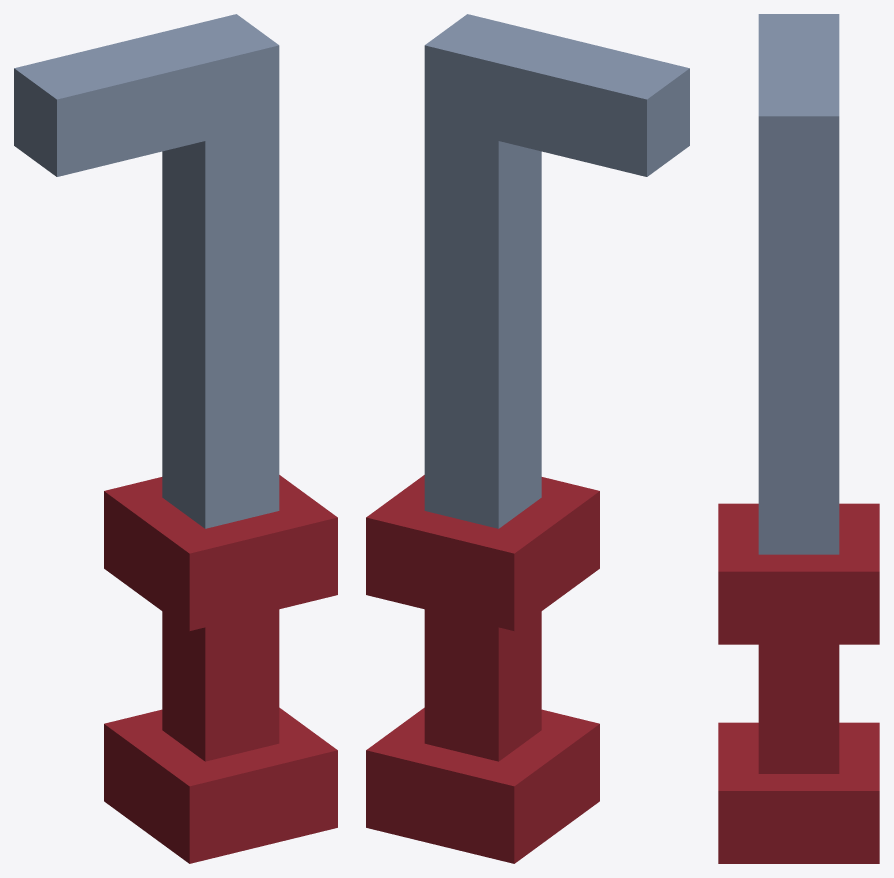
Rendered from handle_pressure.glb.
3 renders of one model, left to right at view 1: azimuth 30°, elevation 25°; view 2: azimuth 150°, elevation 25°; view 3: azimuth 270°, elevation 25°, orthographic. The views are drawn at different scales.
Visible parts, largest first — view 1: generated(Clone); view 2: generated(Clone); view 3: generated(Clone).
Part boxes in pixels (<box>): generated(Clone): <box>14,14,337,863</box>; generated(Clone): <box>366,14,689,863</box>; generated(Clone): <box>718,14,879,863</box>.
Size of the model in its own units: 3.5 by 10 by 2.
Materials: 1 (1 with a texture image).
